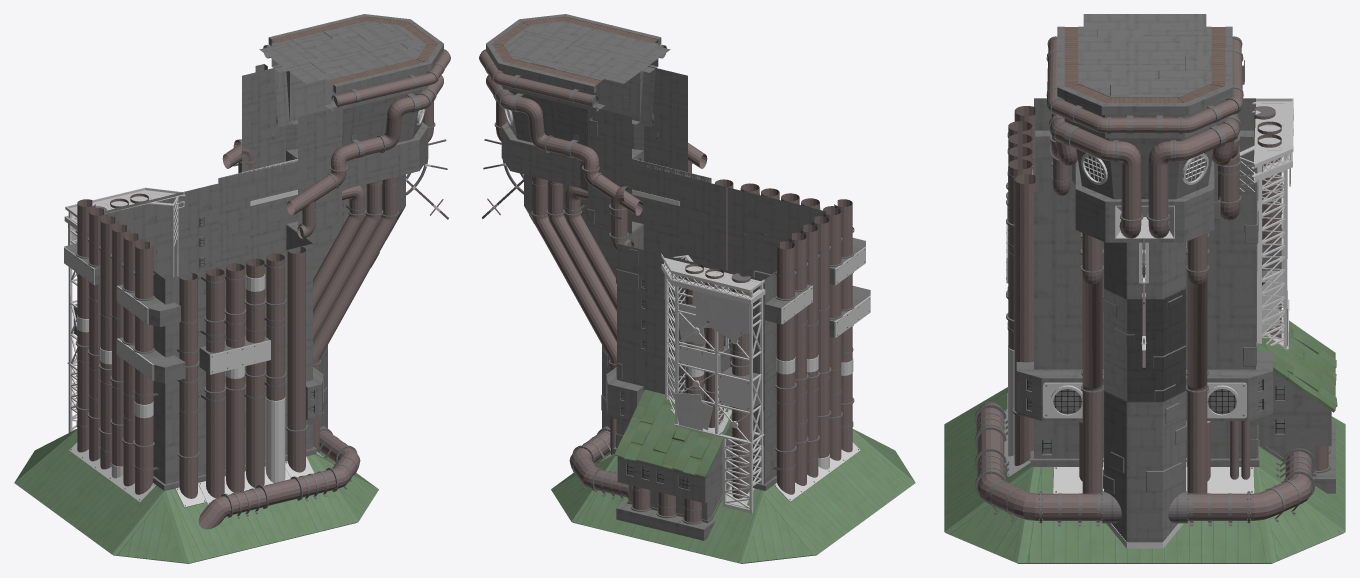
File: MainTower_Ab.fbx
The picture shows the model from 3 angles, left to right: view 1: azimuth 30°, elevation 25°; view 2: azimuth 150°, elevation 25°; view 3: azimuth 270°, elevation 25°; orthographic projection. The views are drawn at different scales.
Visible parts, largest first — view 1: SM_ENV_AMVLLG02_AreaA_MainTower_Ab.mo; view 2: SM_ENV_AMVLLG02_AreaA_MainTower_Ab.mo; view 3: SM_ENV_AMVLLG02_AreaA_MainTower_Ab.mo.
Part boxes in pixels (bbox=[...]): SM_ENV_AMVLLG02_AreaA_MainTower_Ab.mo: bbox=[14, 14, 450, 563]; SM_ENV_AMVLLG02_AreaA_MainTower_Ab.mo: bbox=[479, 14, 915, 563]; SM_ENV_AMVLLG02_AreaA_MainTower_Ab.mo: bbox=[944, 14, 1345, 563].
Bounding box in the file's own units: 5383 × 5360 × 3735.
